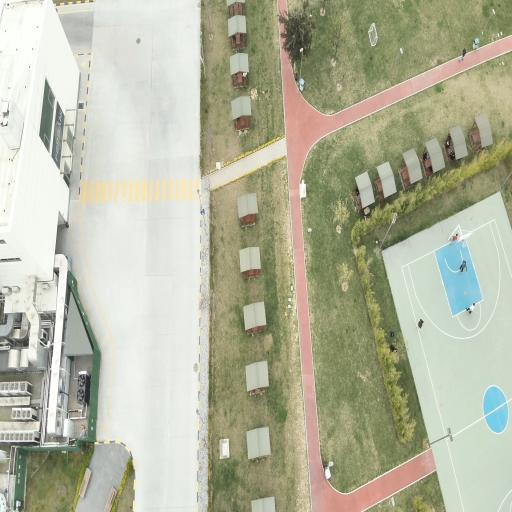person: (459, 260, 467, 273), (450, 233, 458, 245), (459, 48, 466, 61), (467, 303, 475, 313), (446, 135, 451, 148), (418, 319, 423, 330), (390, 345, 397, 352), (450, 151, 455, 160), (356, 187, 359, 196), (391, 331, 394, 337)
